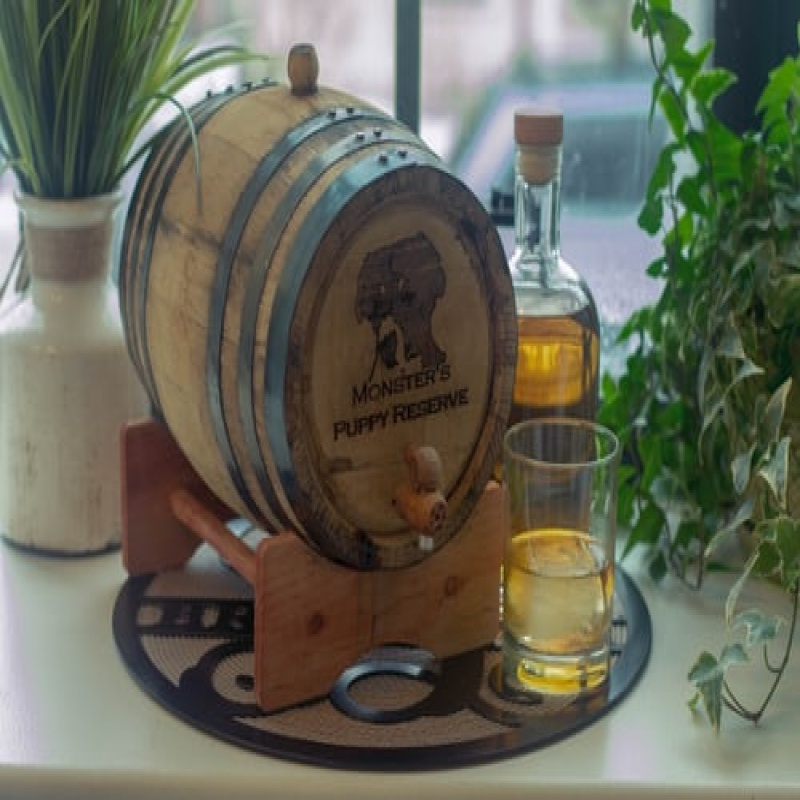whiskey: (505, 419, 626, 696)
